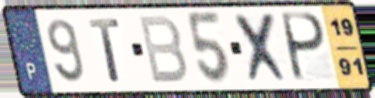5: (184, 10, 232, 88)
9: (45, 18, 87, 85)
B: (136, 14, 190, 86)
P: (281, 11, 329, 85)
T: (86, 16, 123, 84)
X: (232, 12, 293, 86)
